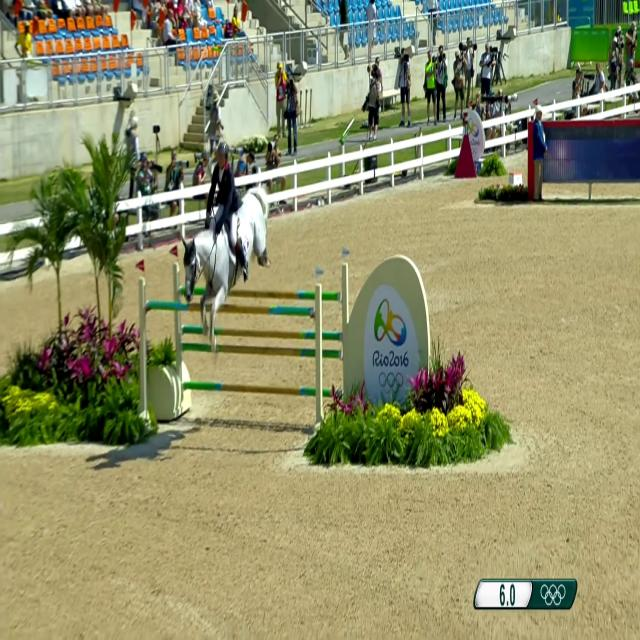Horse Jumping: (178, 157, 282, 316)
